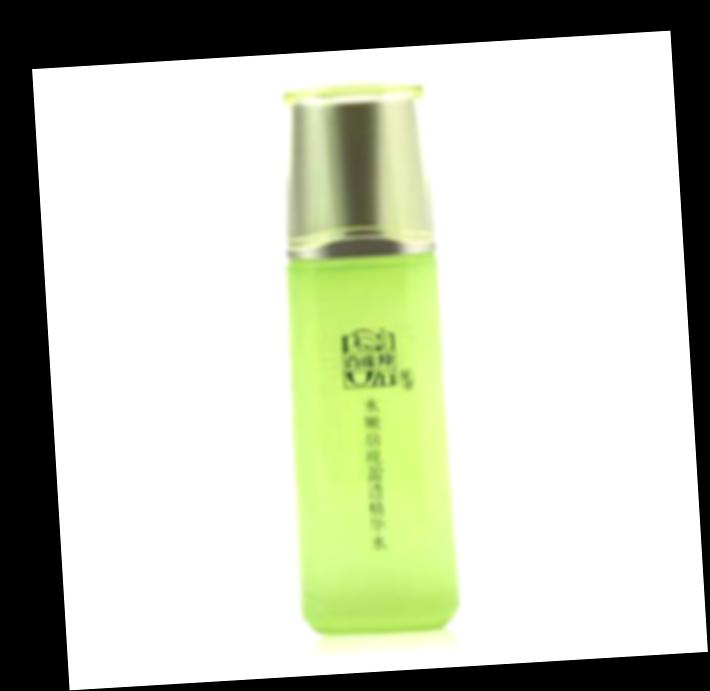cosmetic: (275, 78, 463, 623)
